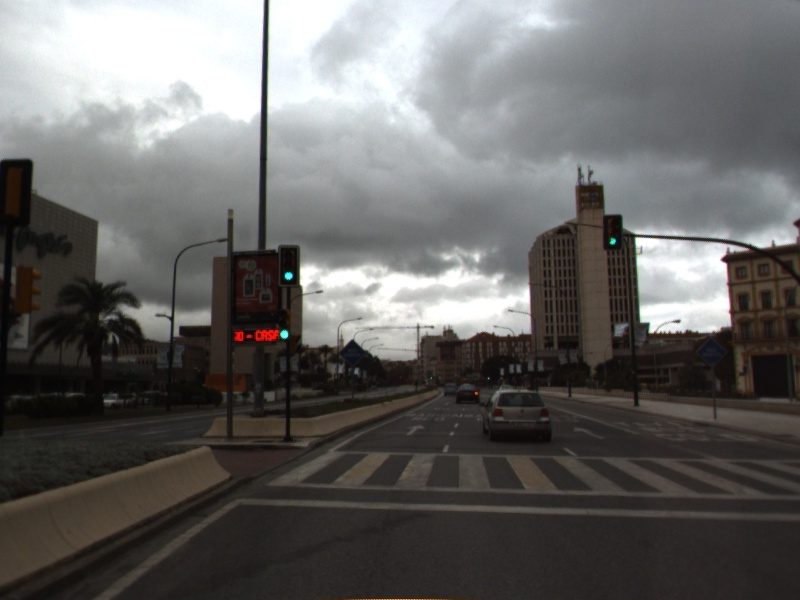STRAIGHT: (571, 424, 608, 442), (403, 422, 429, 438)
